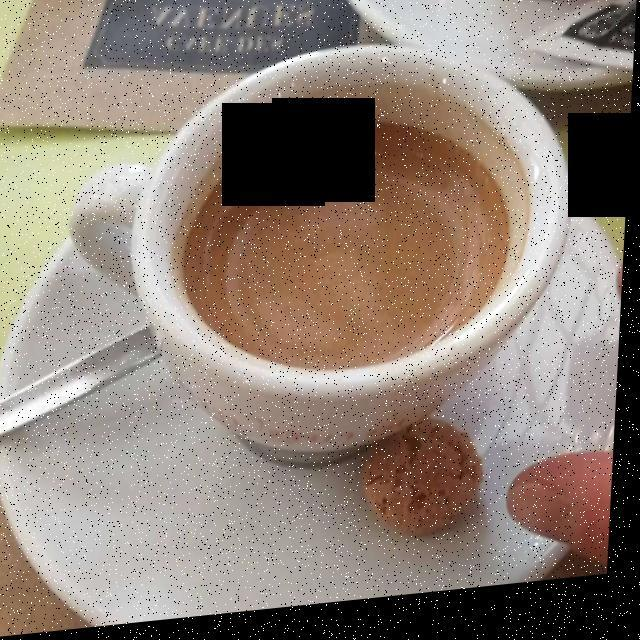biscuits: (373, 434, 484, 545)
espresso: (189, 129, 511, 374)
